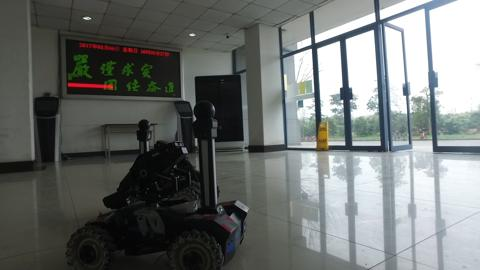chariot: (66, 97, 245, 269)
